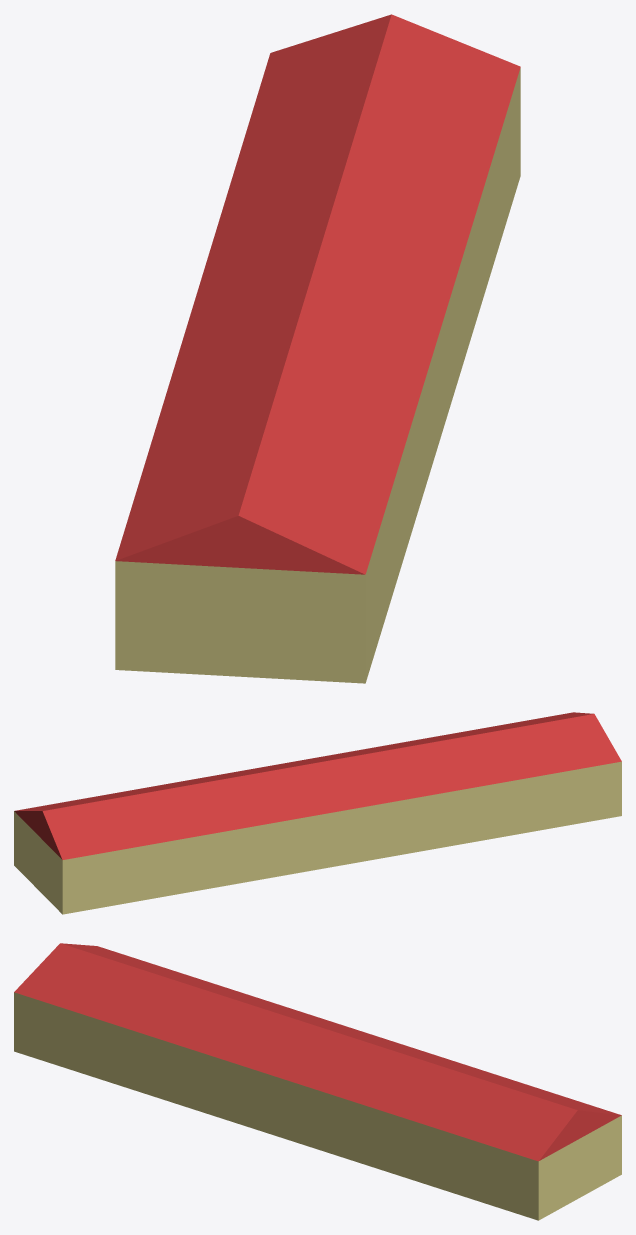
3 views of the same model, one above another, from view 1: azimuth 30°, elevation 25°; view 2: azimuth 150°, elevation 25°; view 3: azimuth 270°, elevation 25° (orthographic). The views are drawn at different scales.
Bounding box in the file's own units: 38.75 × 46.22 × 7.19.
